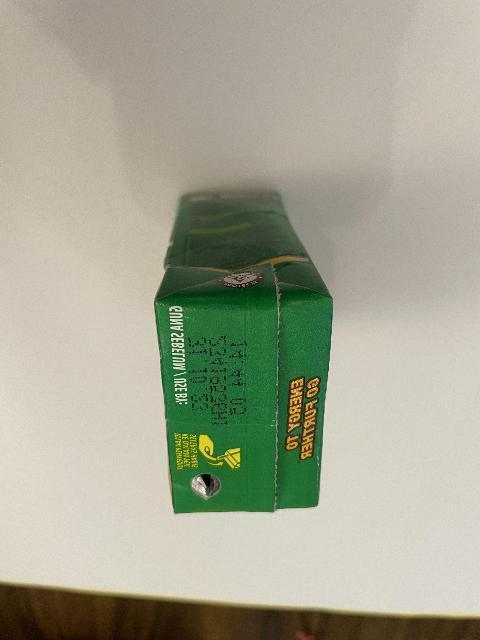drinkpack: (154, 188, 334, 516)
